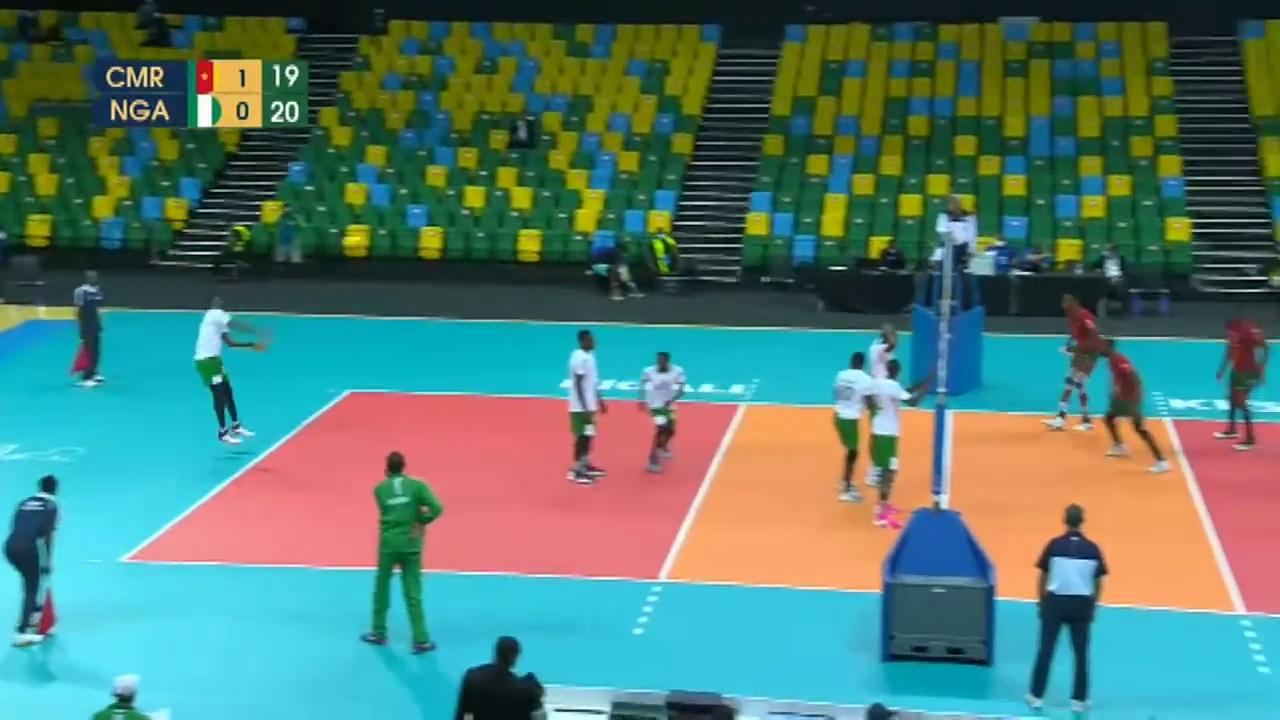player: (197, 297, 268, 439), (1101, 336, 1172, 477), (872, 359, 928, 532), (561, 325, 610, 481), (1213, 316, 1269, 447), (1054, 294, 1100, 434), (637, 350, 684, 473), (868, 324, 903, 488), (833, 353, 871, 504)
refree: (1029, 507, 1113, 713), (1, 477, 63, 639), (936, 196, 976, 298), (75, 270, 109, 388)
